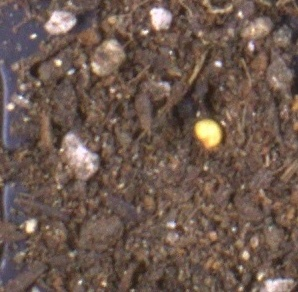chilli seed: (192, 118, 222, 149)
